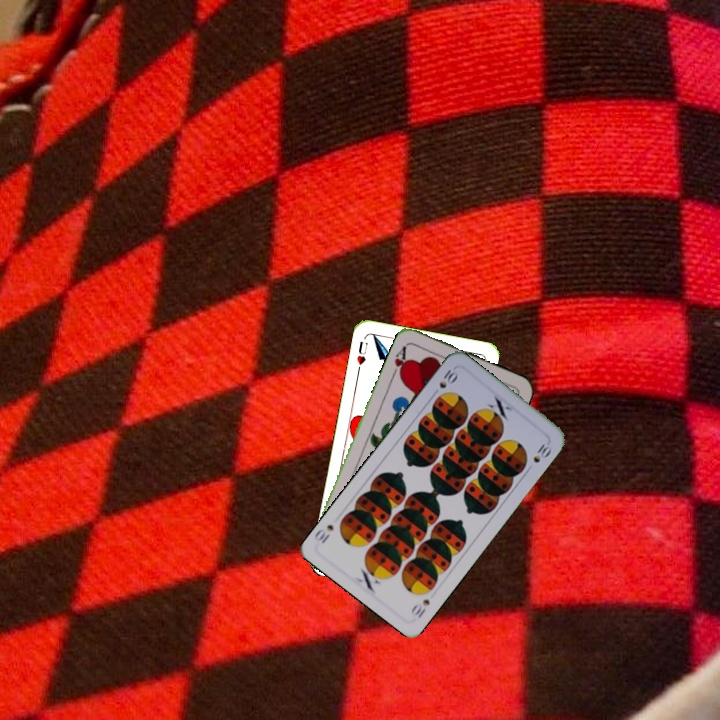HA: (388, 341, 411, 381)
HU: (352, 337, 370, 374)
S10: (428, 365, 461, 399), (406, 595, 432, 621)
